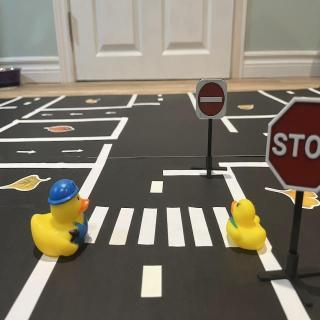duck_regular: (224, 197, 270, 254)
duck_specialty: (30, 178, 94, 260)
road_crosswalk: (79, 203, 245, 253)
road_oneway: (60, 146, 86, 156), (70, 110, 85, 119), (17, 149, 39, 155), (104, 111, 119, 119), (41, 113, 57, 119)
sign_noentry: (197, 79, 229, 123)
sign_stop: (266, 101, 320, 189)
